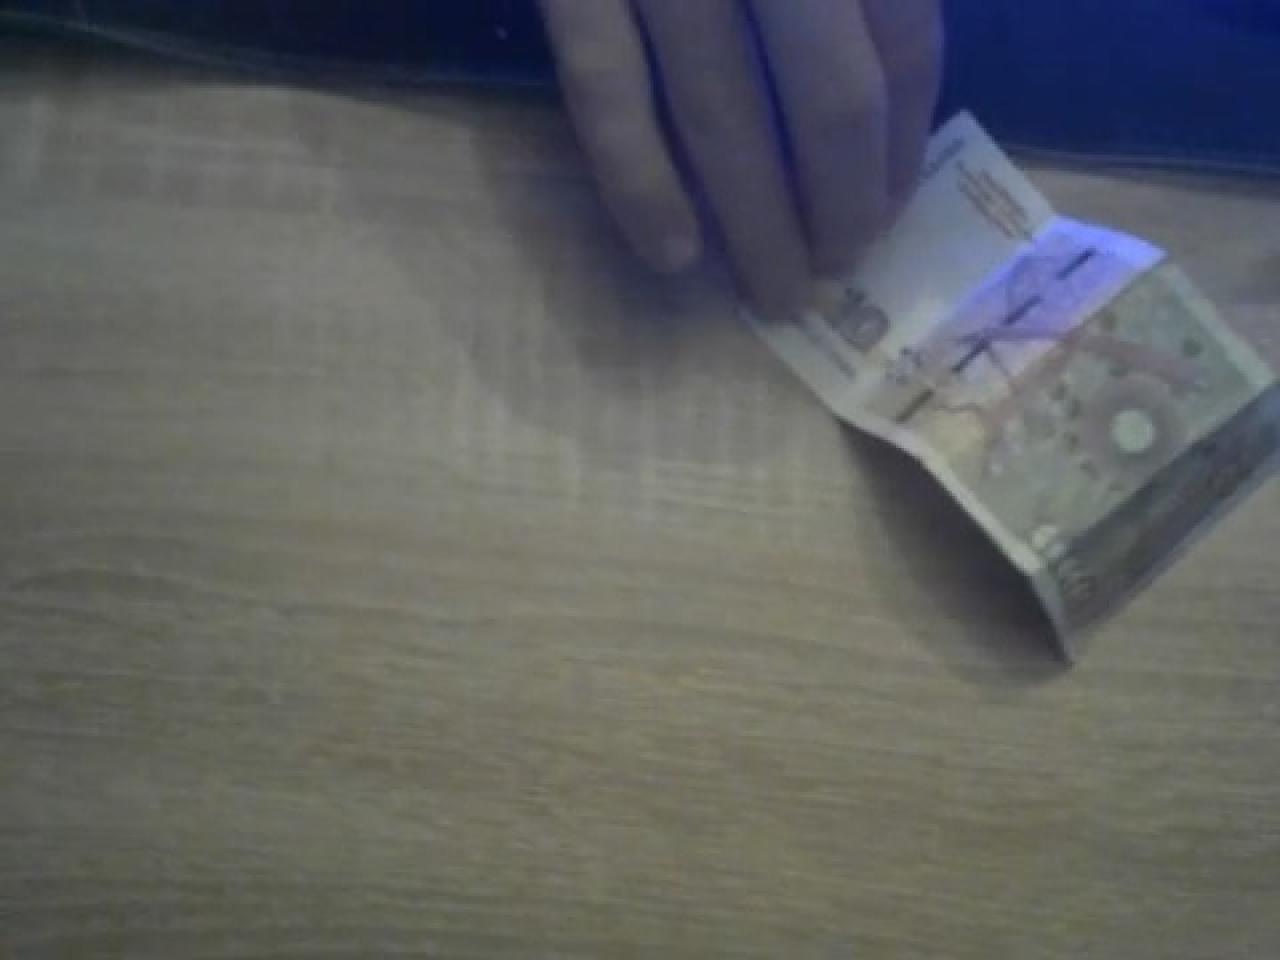10leva: (739, 115, 1280, 670)
